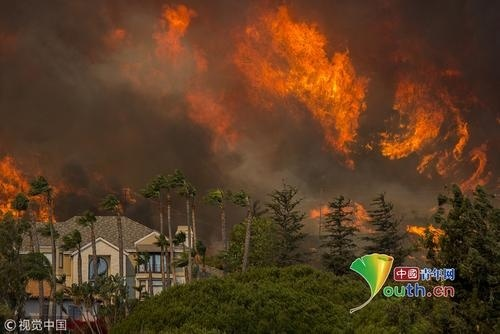fire: (0, 148, 59, 222)
